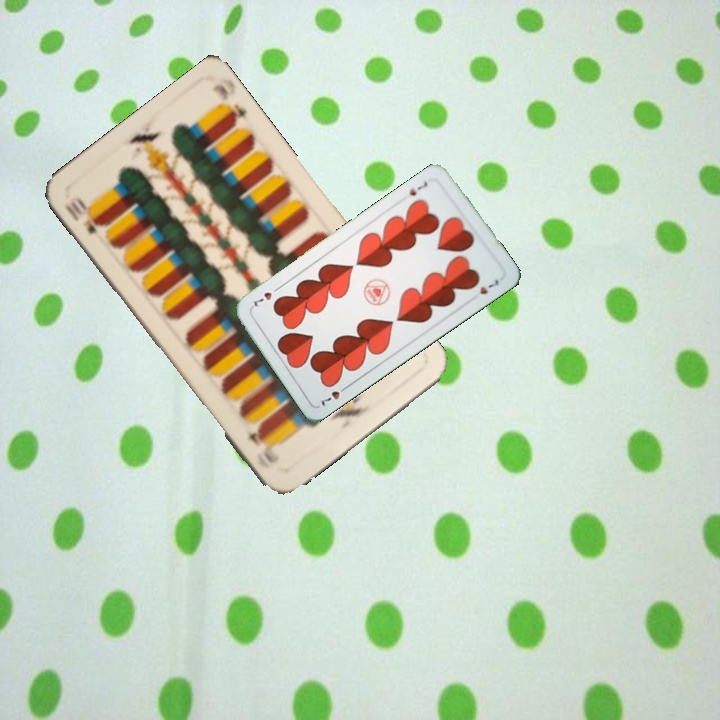E10: (61, 192, 106, 237)
H7: (315, 381, 351, 409), (404, 177, 430, 198)
